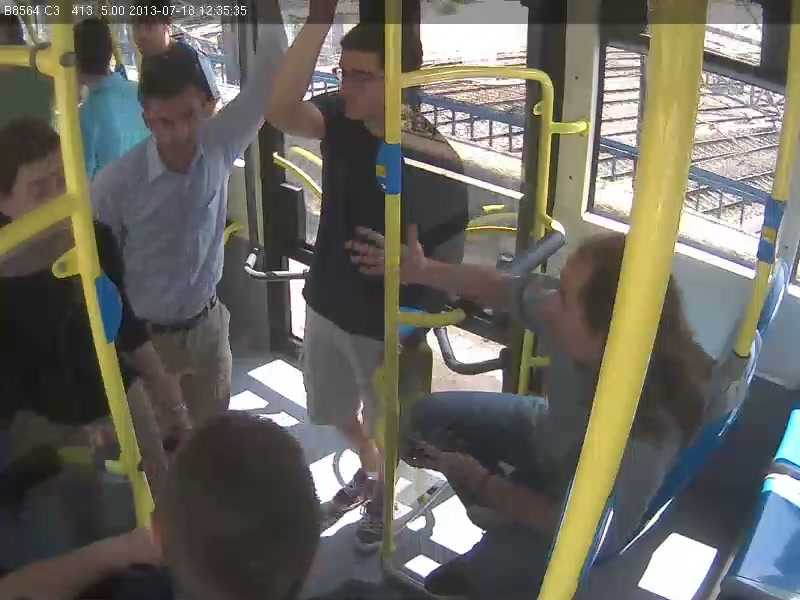Head: (143, 408, 336, 600), (543, 239, 626, 377), (327, 19, 414, 138), (134, 52, 221, 169), (0, 117, 73, 241), (68, 21, 125, 77), (127, 0, 181, 58)
